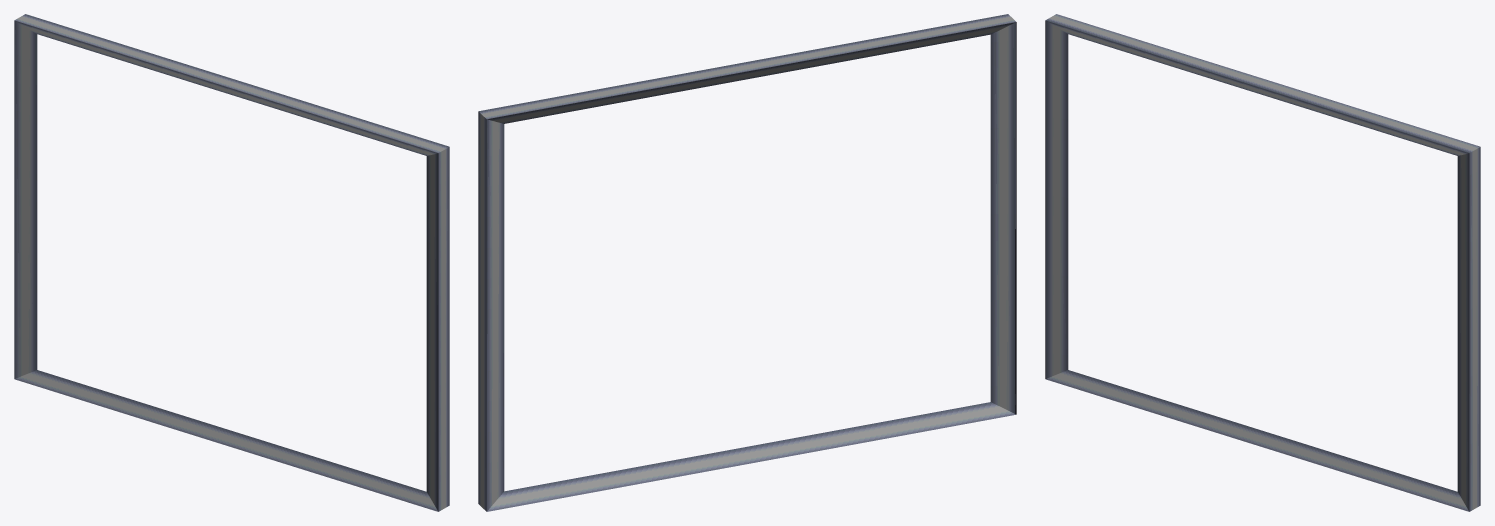
File: primary_122.glb
3 renders of one model, left to right at view 1: azimuth 90°, elevation 25°; view 2: azimuth 150°, elevation 25°; view 3: azimuth 270°, elevation 25°, orthographic. The views are drawn at different scales.
Visible parts, largest first — view 1: Object; view 2: Object; view 3: Object.
Part boxes in pixels (x1,y1,x2,y2): Object: (14,14,449,511); Object: (478,14,1016,511); Object: (1045,14,1480,511).
Size of the model in its own units: 3.02 by 3.63 by 3.99.
Materials: 1 (1 with a texture image).
